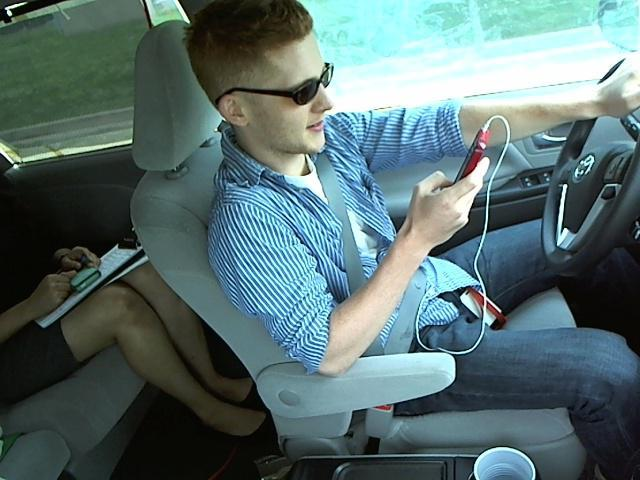PhoneUse: (444, 116, 493, 206)
